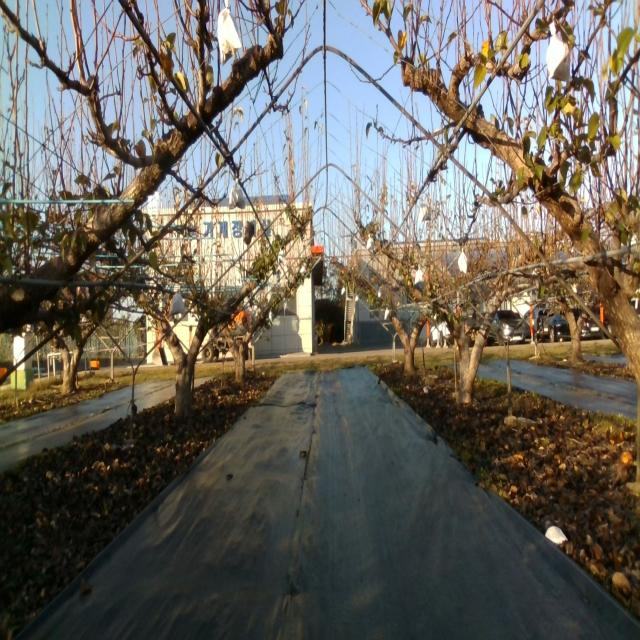pearbags: (544, 19, 572, 85), (216, 0, 243, 60), (228, 178, 245, 210), (418, 193, 432, 220), (169, 294, 185, 316)
